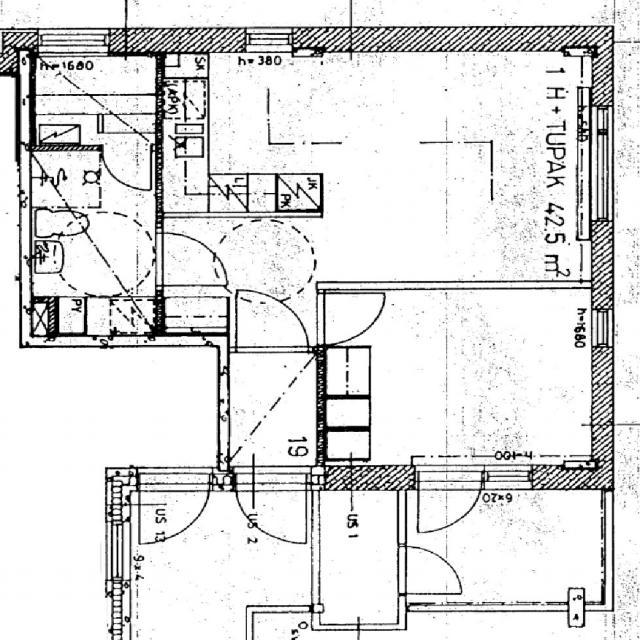door: (235, 465, 307, 549), (236, 287, 308, 353), (418, 465, 480, 541), (316, 294, 388, 344), (154, 234, 225, 284), (399, 546, 462, 593), (104, 143, 150, 190)
